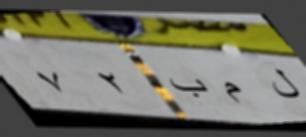2: (96, 67, 125, 98)
7: (35, 66, 64, 96)
baa: (168, 72, 209, 101)
laam: (266, 66, 301, 108)
meem: (219, 75, 244, 107)
